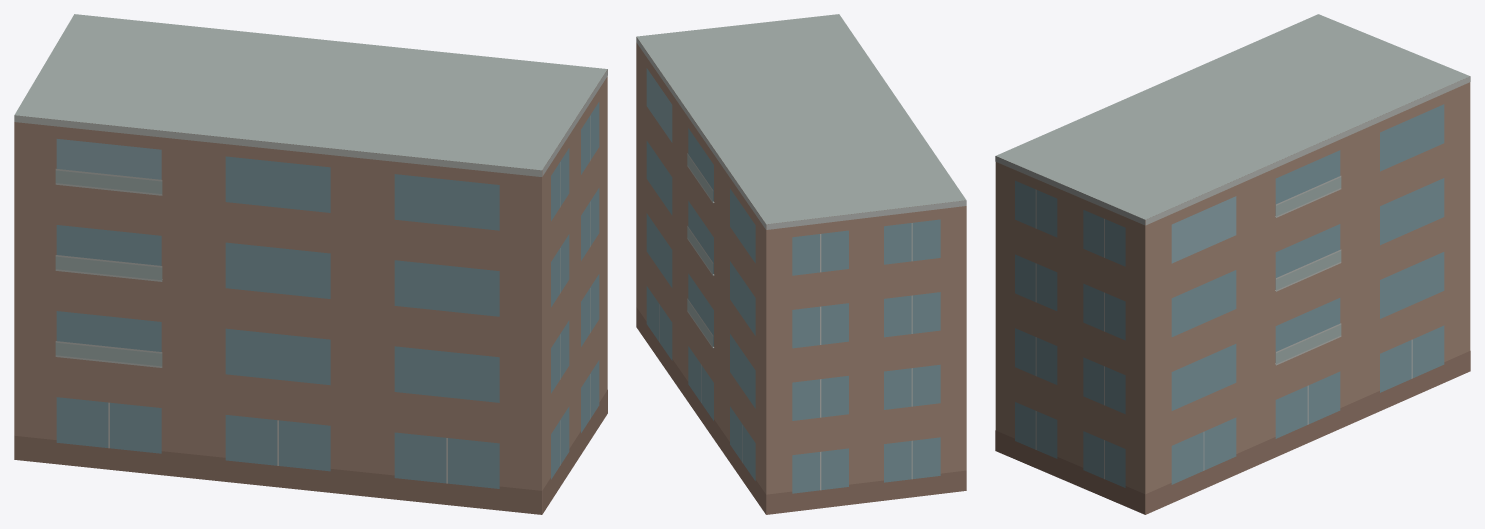
The model's file is survey-upis-32940974.glb.
The picture shows the model from 3 angles, left to right: view 1: azimuth 30°, elevation 25°; view 2: azimuth 150°, elevation 25°; view 3: azimuth 270°, elevation 25°; orthographic projection. The views are drawn at different scales.
Visible parts, largest first — view 1: survey-upis-32940974.tmp; view 2: survey-upis-32940974.tmp; view 3: survey-upis-32940974.tmp.
Boxes of the visible parts, box(x1,y1,x2,y2) form: survey-upis-32940974.tmp: box(14, 14, 607, 514); survey-upis-32940974.tmp: box(636, 14, 966, 514); survey-upis-32940974.tmp: box(995, 14, 1470, 514).
Size of the model in its own units: 18.56 by 12.4 by 18.09.
